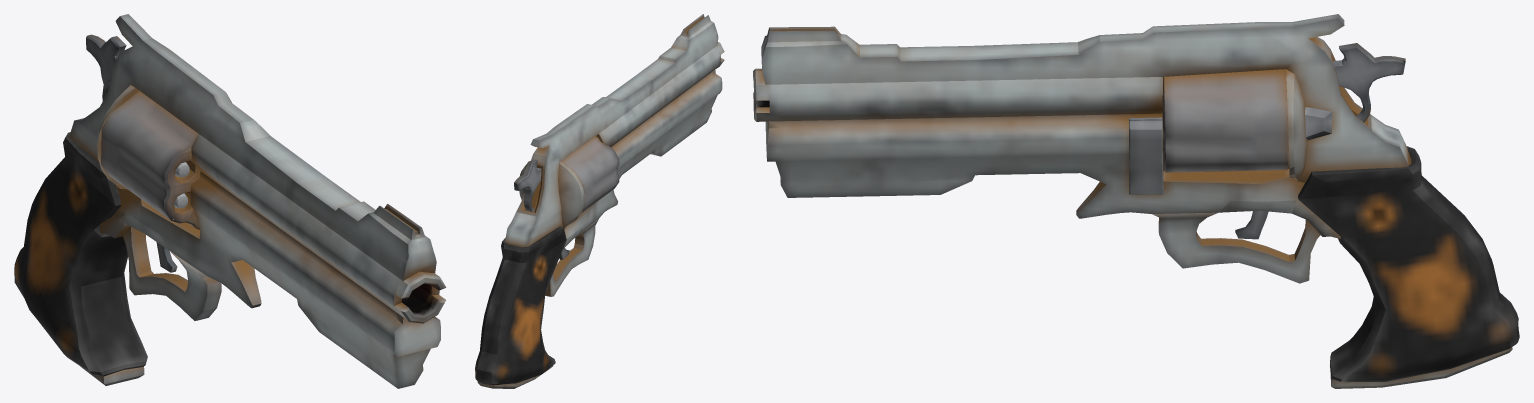
File: gun1.fbx
3 renders of one model, left to right at view 1: azimuth 30°, elevation 25°; view 2: azimuth 150°, elevation 25°; view 3: azimuth 270°, elevation 25°, orthographic. The views are drawn at different scales.
Visible parts, largest first — view 1: gun1; view 2: gun1; view 3: gun1.
Boxes of the visible parts, bbox=[...] form: gun1: bbox=[14, 14, 446, 388]; gun1: bbox=[475, 14, 724, 388]; gun1: bbox=[753, 14, 1519, 388].
Bounding box in the file's own units: 3.45 × 11.42 × 21.64.
